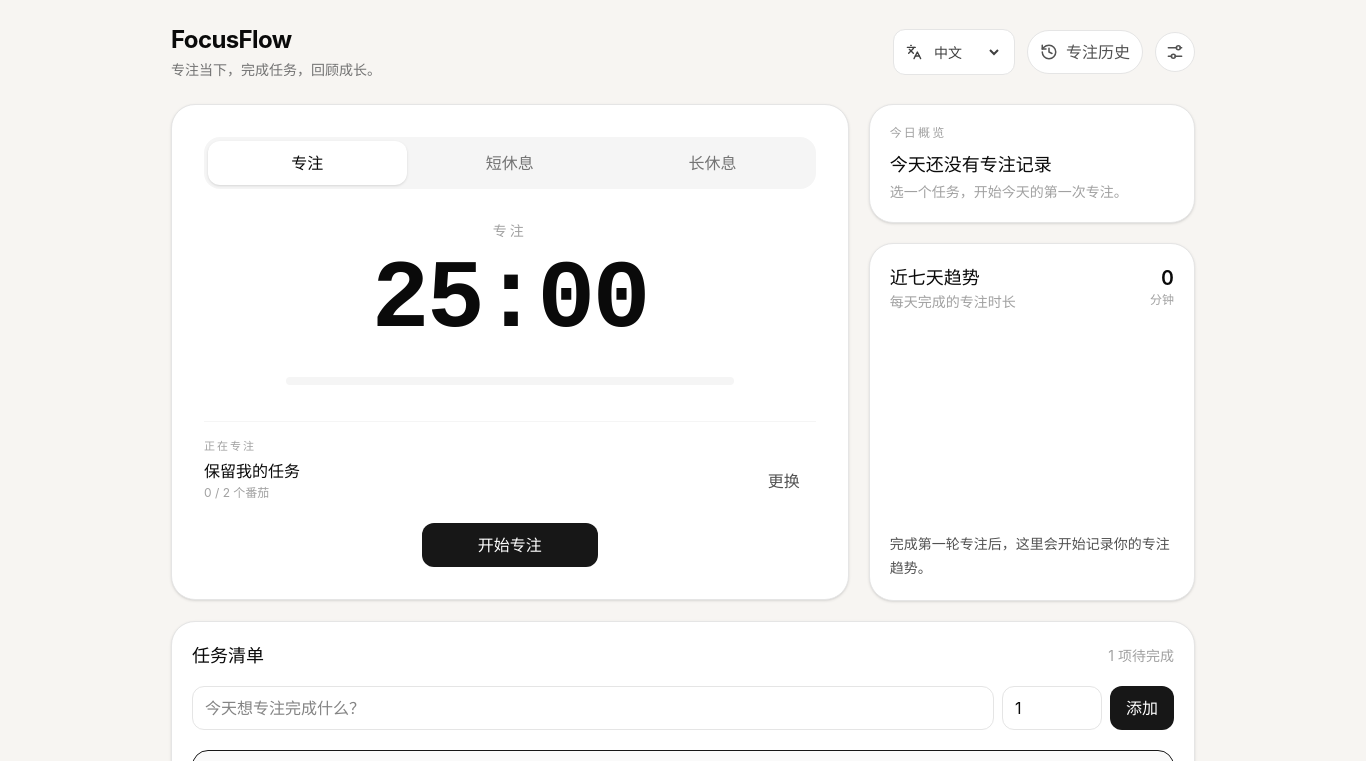
Scenario: switches both ways while preserving the active session, task and input draft
The image size is (1366, 761).
Type "未提交的草稿" into the field named "任务名称".
click(593, 708); type("未提交的草稿")  # box [192,686,994,730]
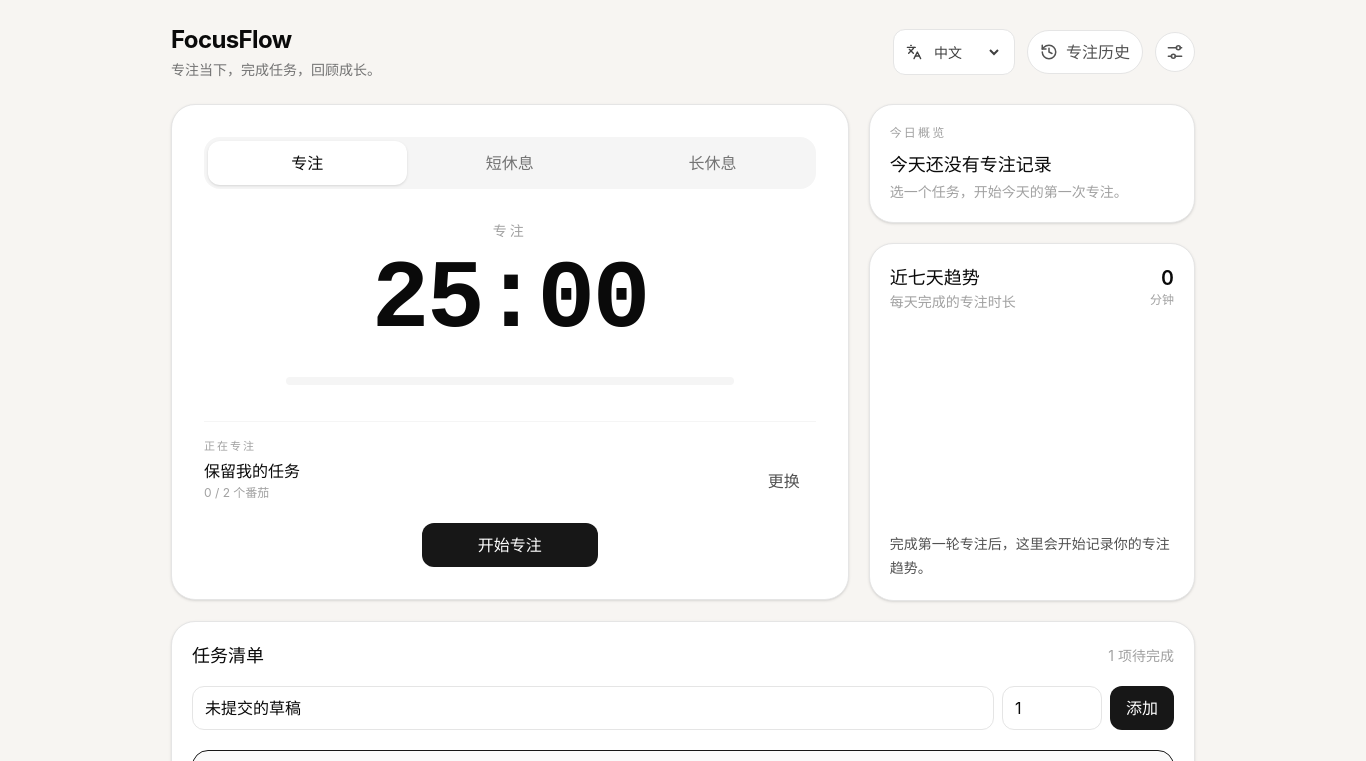
Click the button "开始专注".
click(510, 544)  # box [422,522,598,566]
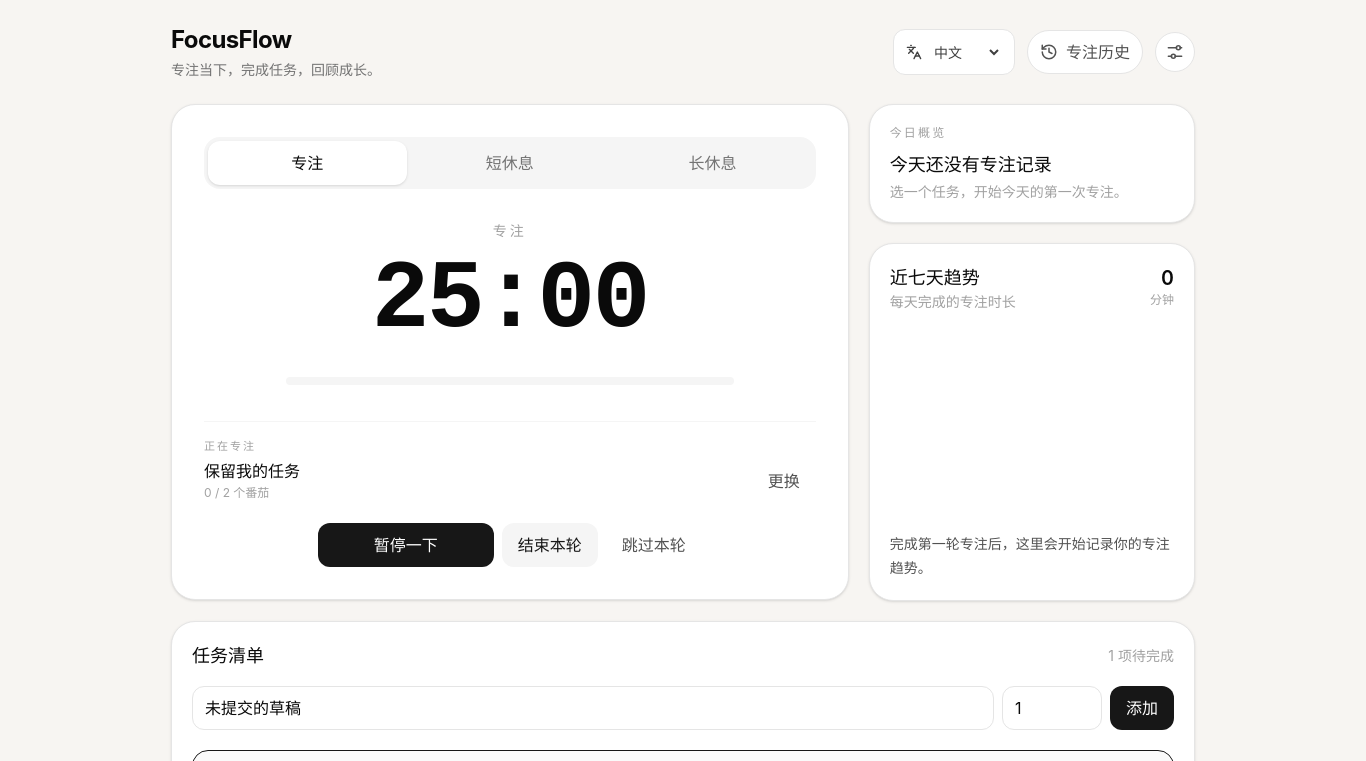
Select "English" in the dropdown named "界面语言" at (966, 52), box [930,30,1002,74]
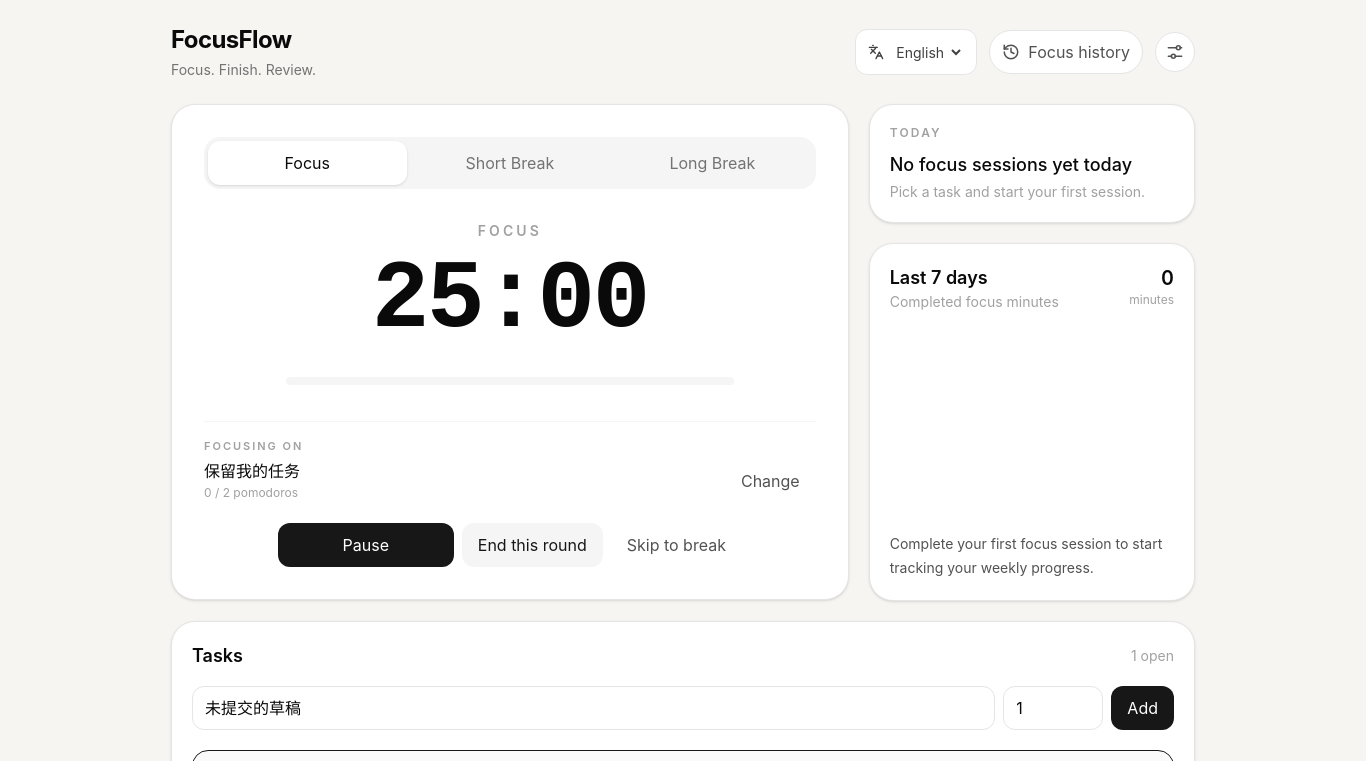
Expected: the heading "Today" is shown, [890,125,942,140]
Result: the button "Pause" is shown at [278,522,454,566]
Click the button "End this round".
click(532, 544)  # box [462,522,603,566]
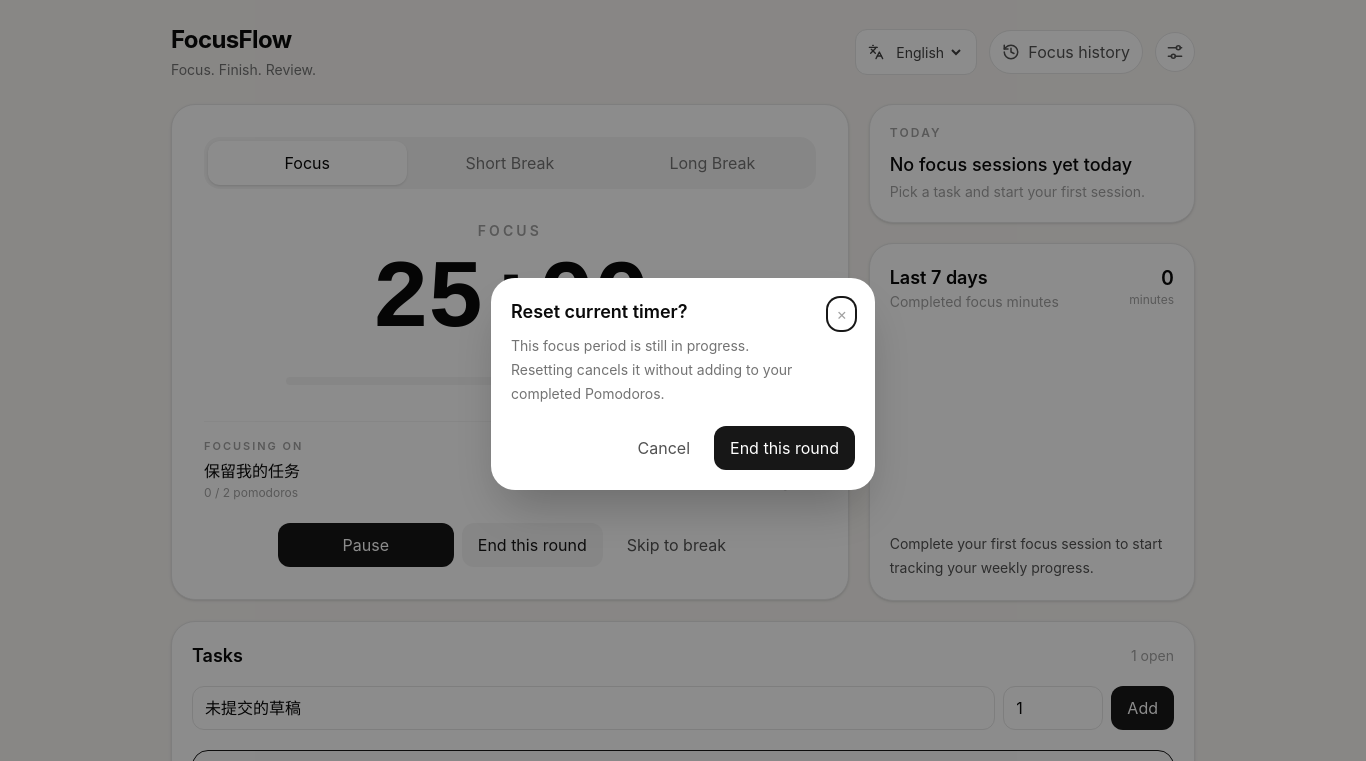
Result: the dialog "Reset current timer?" is shown at [491,278,875,490]
Click the button "Cancel".
click(664, 448)  # box [622,426,706,470]
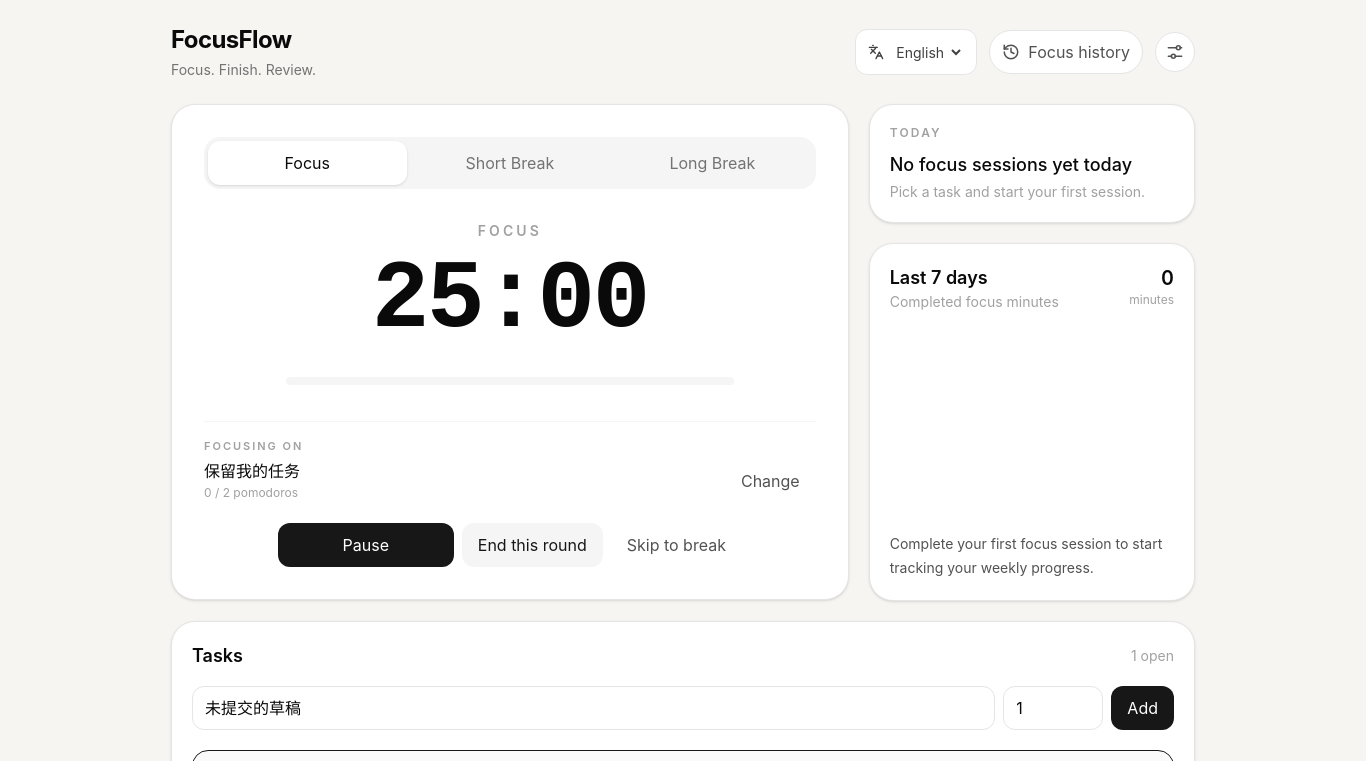
Select "中文" in the dropdown named "Interface language" at (928, 52), box [892,30,964,74]
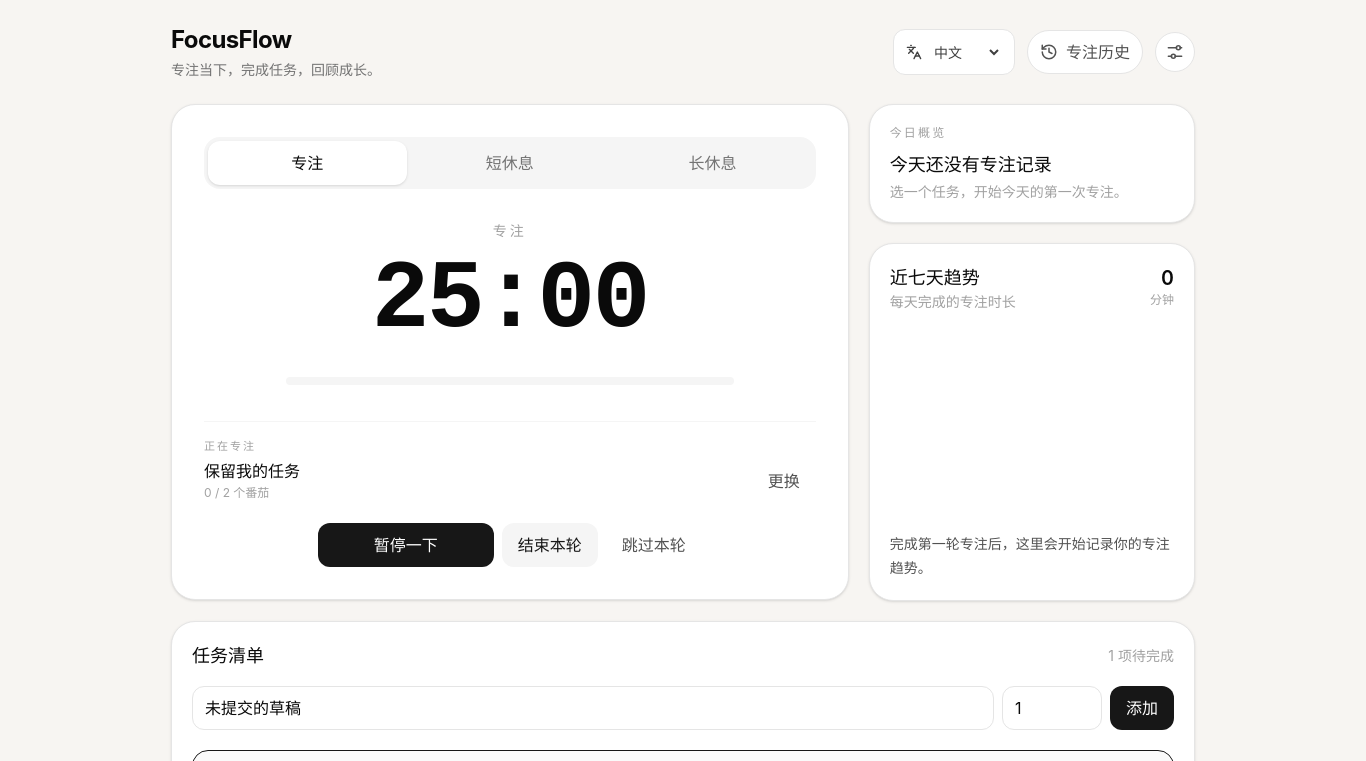
Result: the button "暂停一下" is shown at [318,522,494,566]
